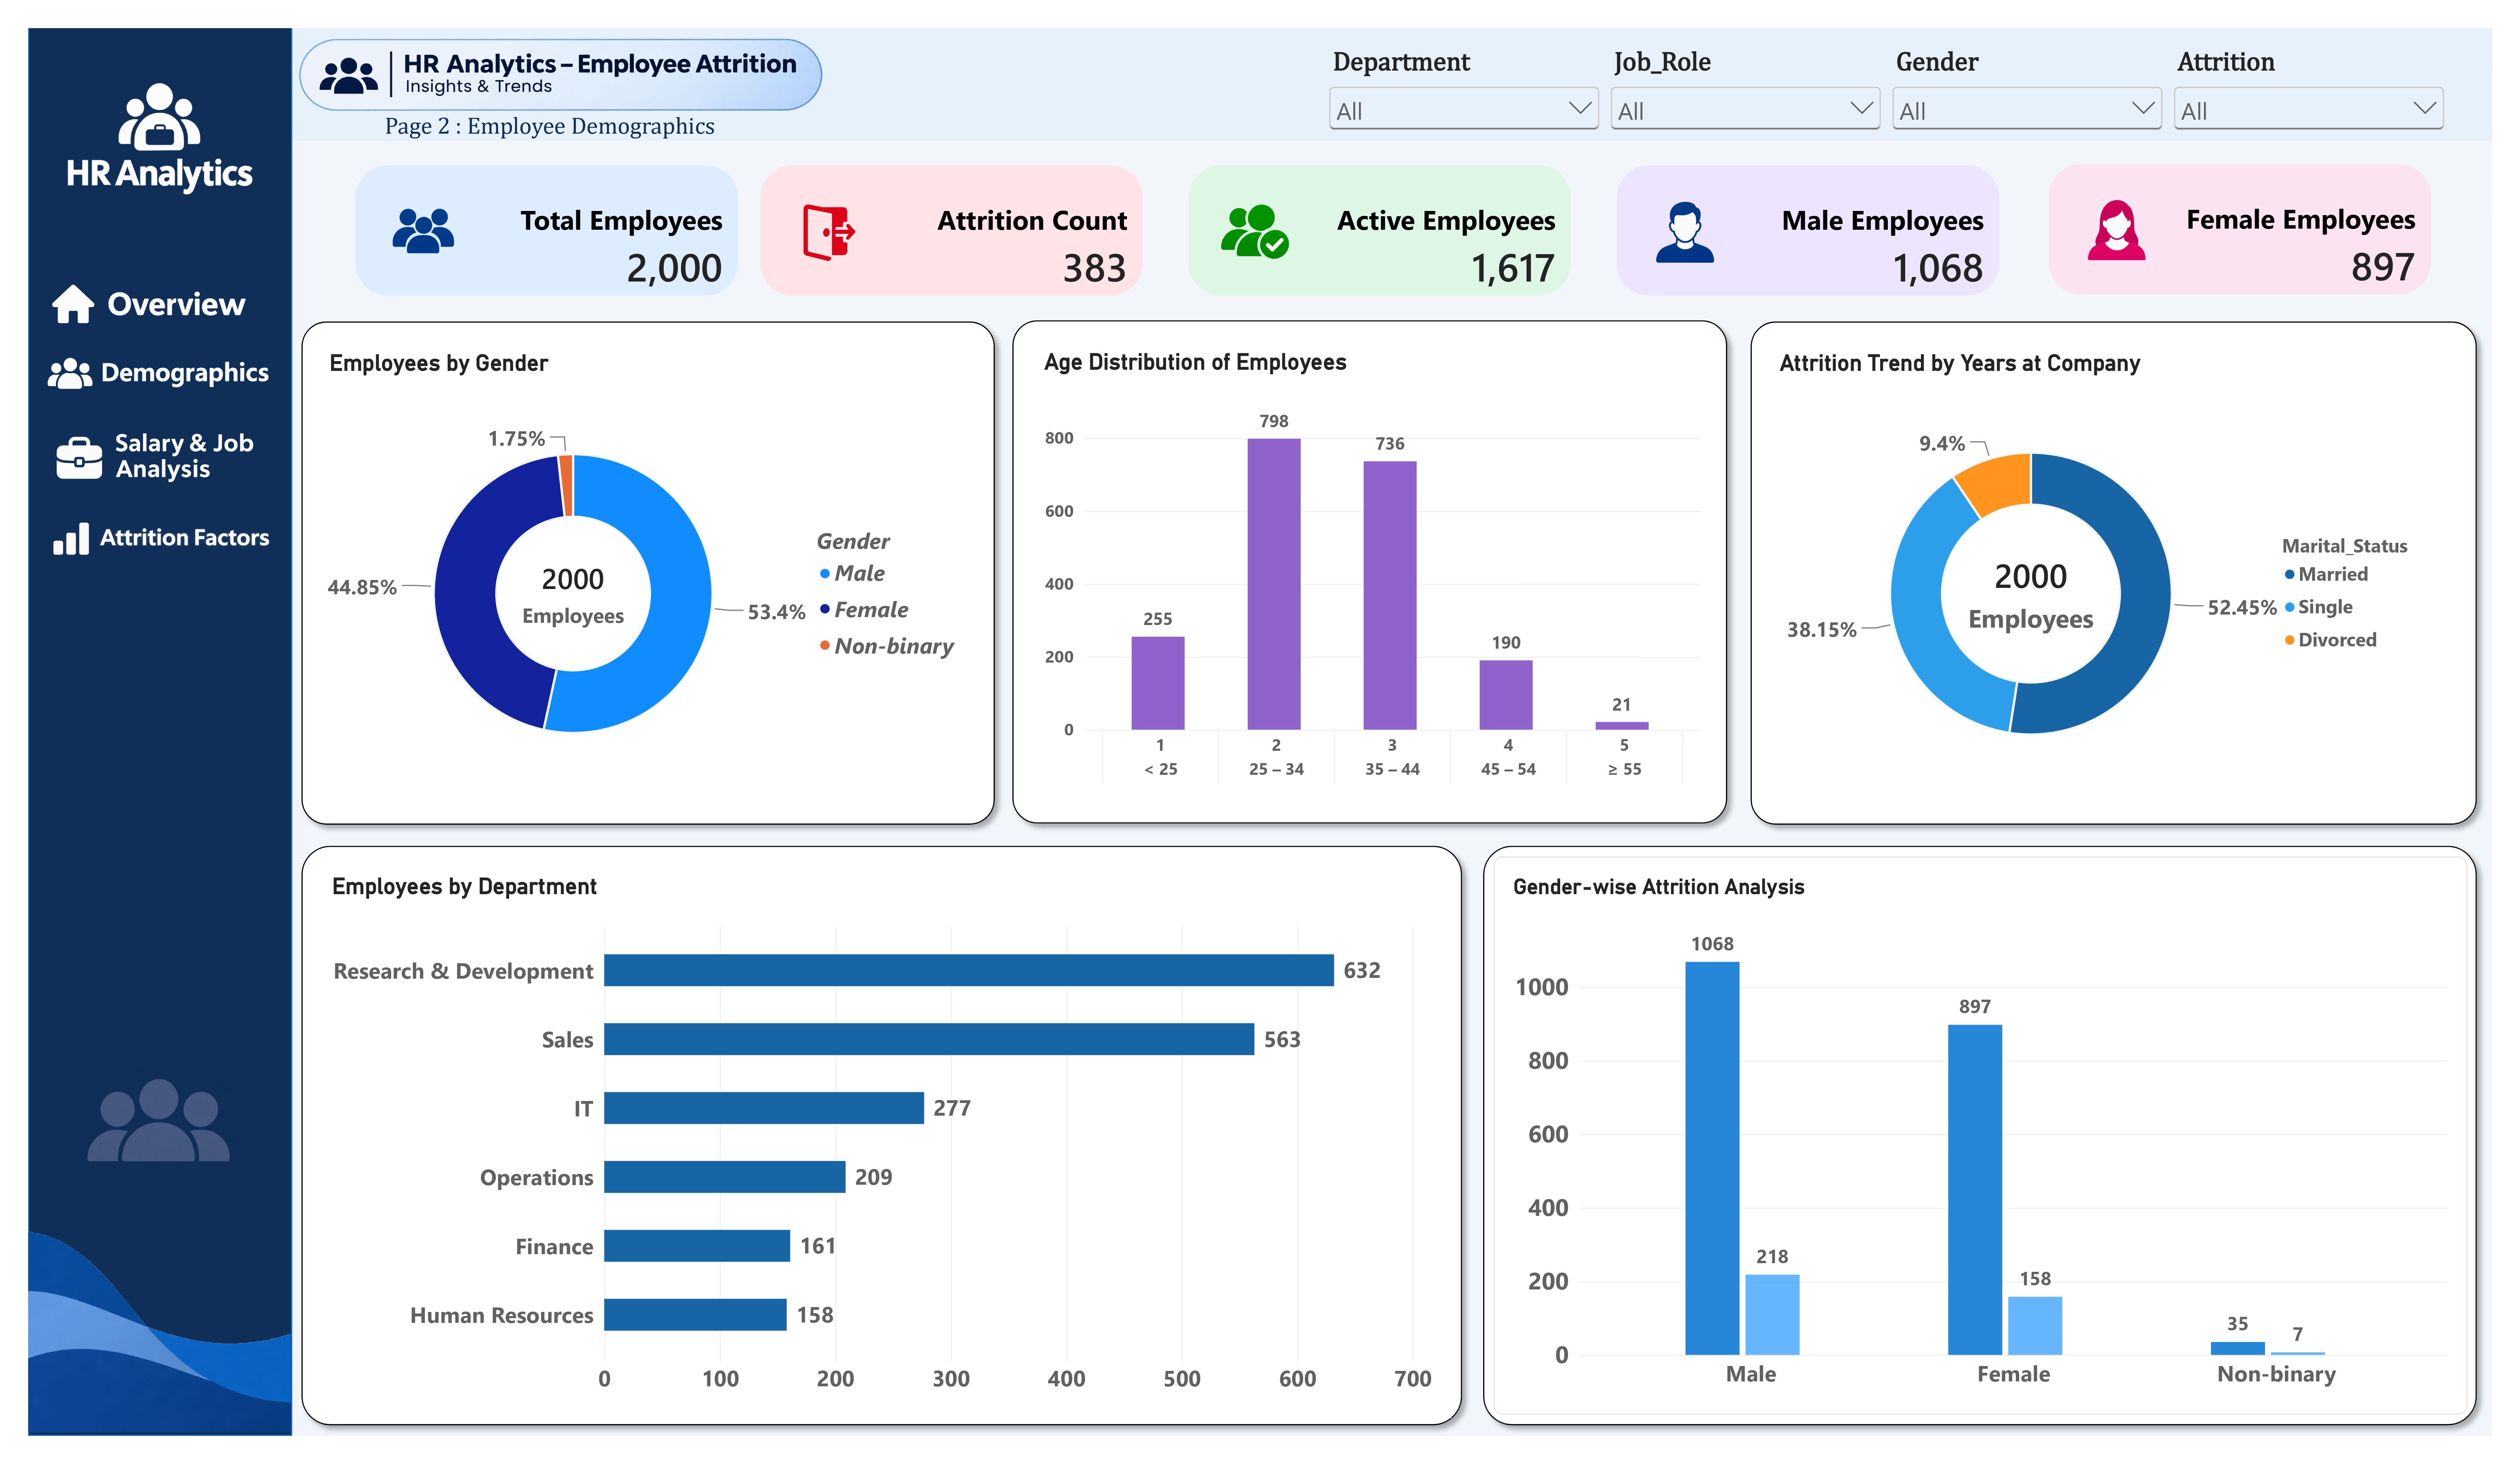

The page's visual inventory and layout, read from the dashboard file:
{"tool":"powerbi","page":{"name":"Employee Demographics","canvas":[2100,1200],"ordinal":1},"visuals":[{"type":"shape","box":[0,-8,225,1208],"z":0,"group":"g1"},{"type":"shape","box":[224,0,1876,96],"z":0},{"type":"shape","box":[1722,116,325.5,111.1],"z":0,"group":"g11"},{"type":"shape","box":[279.2,116.9,325.5,111.1],"z":0,"group":"g5"},{"type":"shape","box":[624.1,116.9,325.5,111.1],"z":0,"group":"g8"},{"type":"shape","box":[989.3,116.9,325.5,111.1],"z":0,"group":"g9"},{"type":"shape","box":[1354.5,116.9,325.5,111.1],"z":0,"group":"g10"},{"type":"image","box":[0,200,222.5,70],"z":0,"group":"g7"},{"type":"image","box":[0,0.9,224,177.6],"z":1000,"group":"g1"},{"type":"image","box":[226,4,456,72],"z":1000},{"type":"cardVisual","fields":{"Data":["HR_Employee_Data.Female Employees"]},"box":[1794.8,132,256,96],"z":1000,"group":"g11"},{"type":"cardVisual","fields":{"Data":["HR_Employee_Data.Total Employees"]},"box":[352,132.9,256,96],"z":1000,"group":"g5"},{"type":"cardVisual","fields":{"Data":["HR_Employee_Data.Attrition Count"]},"box":[696.9,132.9,256,96],"z":1000,"group":"g8"},{"type":"cardVisual","fields":{"Data":["HR_Employee_Data.Active Employees"]},"box":[1030.1,132.9,288,96],"z":1000,"group":"g9"},{"type":"cardVisual","fields":{"Data":["HR_Employee_Data.Male Employees"]},"box":[1427.3,132.9,256,96],"z":1000,"group":"g10"},{"type":"image","box":[0,260,222.5,70],"z":1000,"group":"g7"},{"type":"textbox","title":"Page 2 : Employee Demographics","box":[304,73,288,24],"z":2000},{"type":"image","box":[1698.8,131.9,162.7,79.4],"z":2000,"group":"g11"},{"type":"image","box":[256,132.8,162.7,79.4],"z":2000,"group":"g5"},{"type":"image","box":[600.9,132.8,162.7,79.4],"z":2000,"group":"g8"},{"type":"image","box":[966.1,132.8,162.7,79.4],"z":2000,"group":"g9"},{"type":"image","box":[1331.3,132.8,162.7,79.4],"z":2000,"group":"g10"},{"type":"image","box":[0,330,222.5,70],"z":2000,"group":"g7"},{"type":"image","box":[0,848,224,160],"z":2000,"group":"g1"},{"type":"group","id":"g1","title":"Group 2","box":[0,-8,225,1208],"z":3000},{"type":"slicer","fields":{"Values":["HR_Employee_Data.Department"]},"box":[1104,16,240,96],"z":3000,"group":"g6"},{"type":"image","box":[0,400,222.5,70],"z":3000,"group":"g7"},{"type":"image","box":[0,896,224,304],"z":3000,"group":"g1"},{"type":"slicer","fields":{"Values":["HR_Employee_Data.Job_Role"]},"box":[1344,16,240,96],"z":4000,"group":"g6"},{"type":"group","id":"g2","title":"Group 8","box":[224,688,1872,512],"z":4000},{"type":"slicer","fields":{"Values":["HR_Employee_Data.Gender"]},"box":[1584,16,240,96],"z":5000,"group":"g6"},{"type":"group","id":"g3","title":"Group 9","box":[224,240,1872,448],"z":5000},{"type":"slicer","fields":{"Values":["HR_Employee_Data.Attrition"]},"box":[1824,16,240,96],"z":6000,"group":"g6"},{"type":"group","id":"g4","title":"Group 11","box":[256,116,1794.8,112.9],"z":7000},{"type":"group","id":"g5","title":"Group 1","box":[256,116.9,352,112],"z":7000,"group":"g4"},{"type":"group","id":"g6","title":"Group 9","box":[1104,16,960,96],"z":7001},{"type":"group","id":"g7","title":"Group 10","box":[0,200,222.5,270],"z":7002},{"type":"group","id":"g8","title":"Group 1","box":[600.9,116.9,352,112],"z":8000,"group":"g4"},{"type":"group","id":"g9","title":"Group 1","box":[966.1,116.9,352,112],"z":9000,"group":"g4"},{"type":"group","id":"g10","title":"Group 1","box":[1331.3,116.9,352,112],"z":10000,"group":"g4"},{"type":"group","id":"g11","title":"Group 1","box":[1698.8,116,352,112],"z":11000,"group":"g4"},{"type":"shape","box":[1230.6,688,865.4,512],"z":13000,"group":"g16"},{"type":"shape","box":[830.5,240,626.6,446.8],"z":14000,"group":"g13"},{"type":"shape","box":[224,241.2,608.7,446.8],"z":14000,"group":"g12"},{"type":"group","id":"g12","title":"Group 4","box":[224,241.2,608.7,446.8],"z":14000,"group":"g3"},{"type":"shape","box":[224,688,1006.6,512],"z":14000,"group":"g15"},{"type":"group","id":"g13","title":"Group 5","box":[830.5,240,626.6,446.8],"z":15000,"group":"g3"},{"type":"shape","box":[1459.3,241.2,636.7,446.8],"z":15000,"group":"g14"},{"type":"group","id":"g14","title":"Group 6","box":[1459.3,241.2,636.7,446.8],"z":16000,"group":"g3"},{"type":"clusteredColumnChart","title":"Age Distribution of Employees","fields":{"Category":["HR_Employee_Data.Age Group","HR_Employee_Data.Age Group Sort"],"Y":["HR_Employee_Data.Total Employees"]},"box":[850.6,259.4,590.8,406.7],"z":17000,"group":"g13"},{"type":"donutChart","title":"Attrition Trend by Years at Company","fields":{"Category":["HR_Employee_Data.Marital_Status"],"Y":["HR_Employee_Data.Total Employees"]},"box":[1477.2,260.6,590.8,407.9],"z":17000,"group":"g14"},{"type":"group","id":"g15","title":"Group 3","box":[224,688,1006.6,512],"z":17000,"group":"g2"},{"type":"donutChart","title":"Employees by Gender","fields":{"Category":["HR_Employee_Data.Gender"],"Y":["HR_Employee_Data.Total Employees"]},"box":[241.4,260.6,573.9,407.9],"z":18000,"group":"g12"},{"type":"clusteredColumnChart","title":"Gender-wise Attrition Analysis","fields":{"Category":["HR_Employee_Data.Gender"],"Y":["HR_Employee_Data.Total Employees","HR_Employee_Data.Attrition Count"]},"box":[1248.3,705.7,830,476.7],"z":18000,"group":"g16"},{"type":"group","id":"g16","title":"Group 7","box":[1230.6,688,865.4,512],"z":18001,"group":"g2"},{"type":"clusteredBarChart","title":"Employees by Department","fields":{"Category":["HR_Employee_Data.Department"],"Y":["HR_Employee_Data.Total Employees"]},"box":[243,705.7,969.8,478.9],"z":18001,"group":"g15"}]}

Visuals, with their boxes on the page's 2100x1200 design canvas (x1, y1, x2, y2). These are canvas units, not pixel positions in the 2520x1464 screenshot, which may show the page scaled, cropped or inside an application window:
shape: BBox(0, -8, 225, 1200)
shape: BBox(224, 0, 2100, 96)
shape: BBox(1722, 116, 2048, 227)
shape: BBox(279, 117, 605, 228)
shape: BBox(624, 117, 950, 228)
shape: BBox(989, 117, 1315, 228)
shape: BBox(1354, 117, 1680, 228)
image: BBox(0, 200, 222, 270)
image: BBox(0, 1, 224, 178)
image: BBox(226, 4, 682, 76)
cardVisual - HR_Employee_Data.Female Employees: BBox(1795, 132, 2051, 228)
cardVisual - HR_Employee_Data.Total Employees: BBox(352, 133, 608, 229)
cardVisual - HR_Employee_Data.Attrition Count: BBox(697, 133, 953, 229)
cardVisual - HR_Employee_Data.Active Employees: BBox(1030, 133, 1318, 229)
cardVisual - HR_Employee_Data.Male Employees: BBox(1427, 133, 1683, 229)
image: BBox(0, 260, 222, 330)
"Page 2 : Employee Demographics" textbox: BBox(304, 73, 592, 97)
image: BBox(1699, 132, 1862, 211)
image: BBox(256, 133, 419, 212)
image: BBox(601, 133, 764, 212)
image: BBox(966, 133, 1129, 212)
image: BBox(1331, 133, 1494, 212)
image: BBox(0, 330, 222, 400)
image: BBox(0, 848, 224, 1008)
"Group 2" group: BBox(0, -8, 225, 1200)
slicer - HR_Employee_Data.Department: BBox(1104, 16, 1344, 112)
image: BBox(0, 400, 222, 470)
image: BBox(0, 896, 224, 1200)
slicer - HR_Employee_Data.Job_Role: BBox(1344, 16, 1584, 112)
"Group 8" group: BBox(224, 688, 2096, 1200)
slicer - HR_Employee_Data.Gender: BBox(1584, 16, 1824, 112)
"Group 9" group: BBox(224, 240, 2096, 688)
slicer - HR_Employee_Data.Attrition: BBox(1824, 16, 2064, 112)
"Group 11" group: BBox(256, 116, 2051, 229)
"Group 1" group: BBox(256, 117, 608, 229)
"Group 9" group: BBox(1104, 16, 2064, 112)
"Group 10" group: BBox(0, 200, 222, 470)
"Group 1" group: BBox(601, 117, 953, 229)
"Group 1" group: BBox(966, 117, 1318, 229)
"Group 1" group: BBox(1331, 117, 1683, 229)
"Group 1" group: BBox(1699, 116, 2051, 228)
shape: BBox(1231, 688, 2096, 1200)
shape: BBox(830, 240, 1457, 687)
shape: BBox(224, 241, 833, 688)
"Group 4" group: BBox(224, 241, 833, 688)
shape: BBox(224, 688, 1231, 1200)
"Group 5" group: BBox(830, 240, 1457, 687)
shape: BBox(1459, 241, 2096, 688)
"Group 6" group: BBox(1459, 241, 2096, 688)
"Age Distribution of Employees" clusteredColumnChart: BBox(851, 259, 1441, 666)
"Attrition Trend by Years at Company" donutChart: BBox(1477, 261, 2068, 668)
"Group 3" group: BBox(224, 688, 1231, 1200)
"Employees by Gender" donutChart: BBox(241, 261, 815, 668)
"Gender-wise Attrition Analysis" clusteredColumnChart: BBox(1248, 706, 2078, 1182)
"Group 7" group: BBox(1231, 688, 2096, 1200)
"Employees by Department" clusteredBarChart: BBox(243, 706, 1213, 1185)
